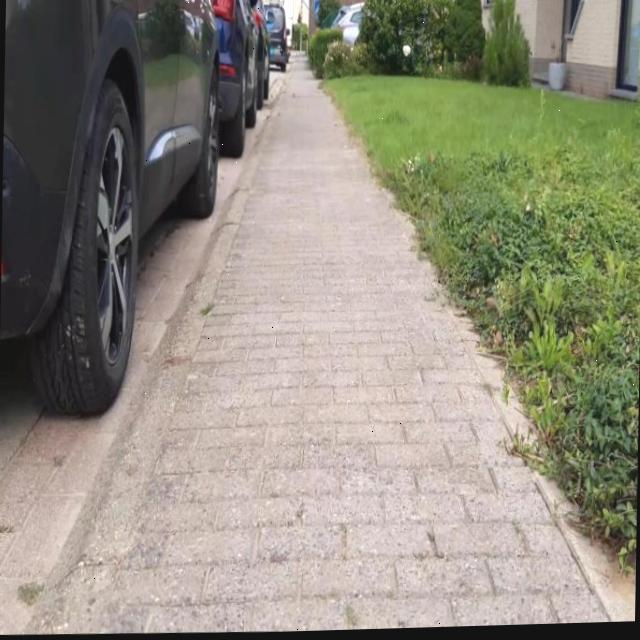Automobile: (209, 0, 263, 157), (265, 6, 287, 71), (331, 5, 363, 46)
Road: (0, 80, 279, 634)
Sidewalk: (35, 74, 607, 634)
